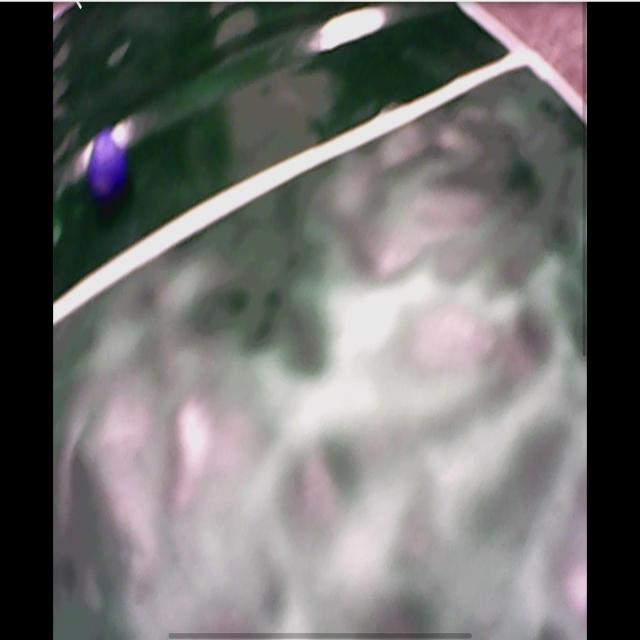ball: (86, 127, 128, 204)
